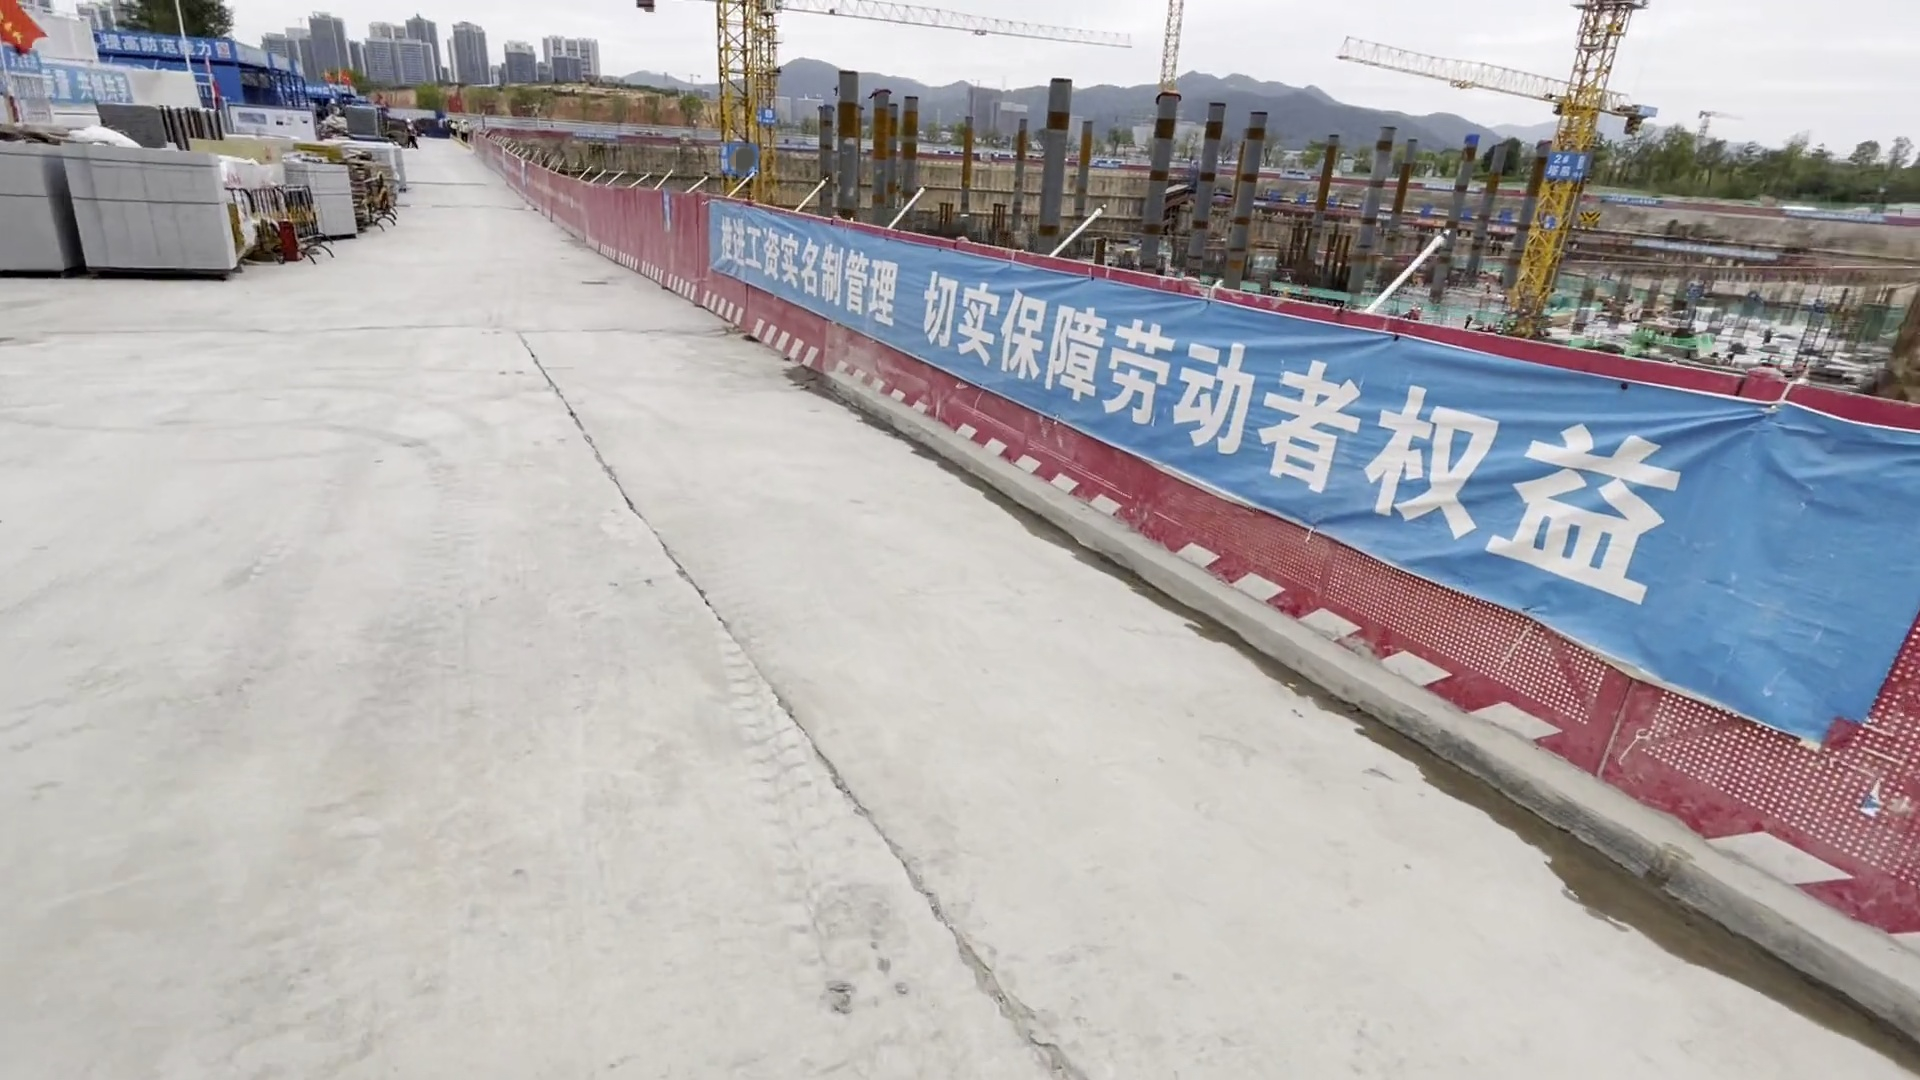brick: (1, 142, 268, 280), (276, 153, 359, 239)
fence: (686, 203, 1920, 944), (455, 124, 740, 313)
slogan: (696, 195, 1805, 708)
